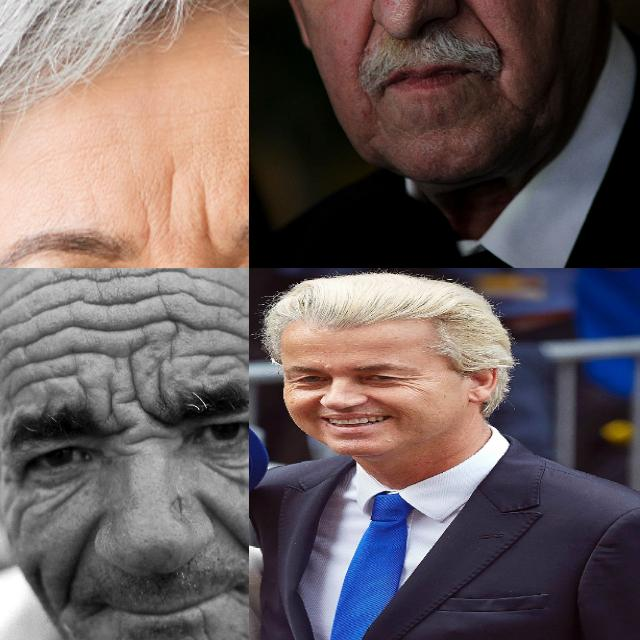chin: (192, 621, 230, 640)
crows_feet: (1, 488, 45, 524), (399, 375, 422, 389), (286, 380, 300, 390)
forehead: (162, 268, 220, 346), (2, 284, 82, 336), (95, 274, 153, 342), (0, 348, 84, 392), (226, 290, 249, 366)
frown_line: (148, 163, 218, 249), (144, 352, 176, 408), (117, 428, 167, 456), (98, 380, 124, 428), (124, 362, 146, 418)
gummy_smile: (210, 508, 249, 570), (59, 526, 91, 594), (350, 1, 384, 64), (449, 0, 490, 34)
sad_smile: (498, 87, 532, 117)
